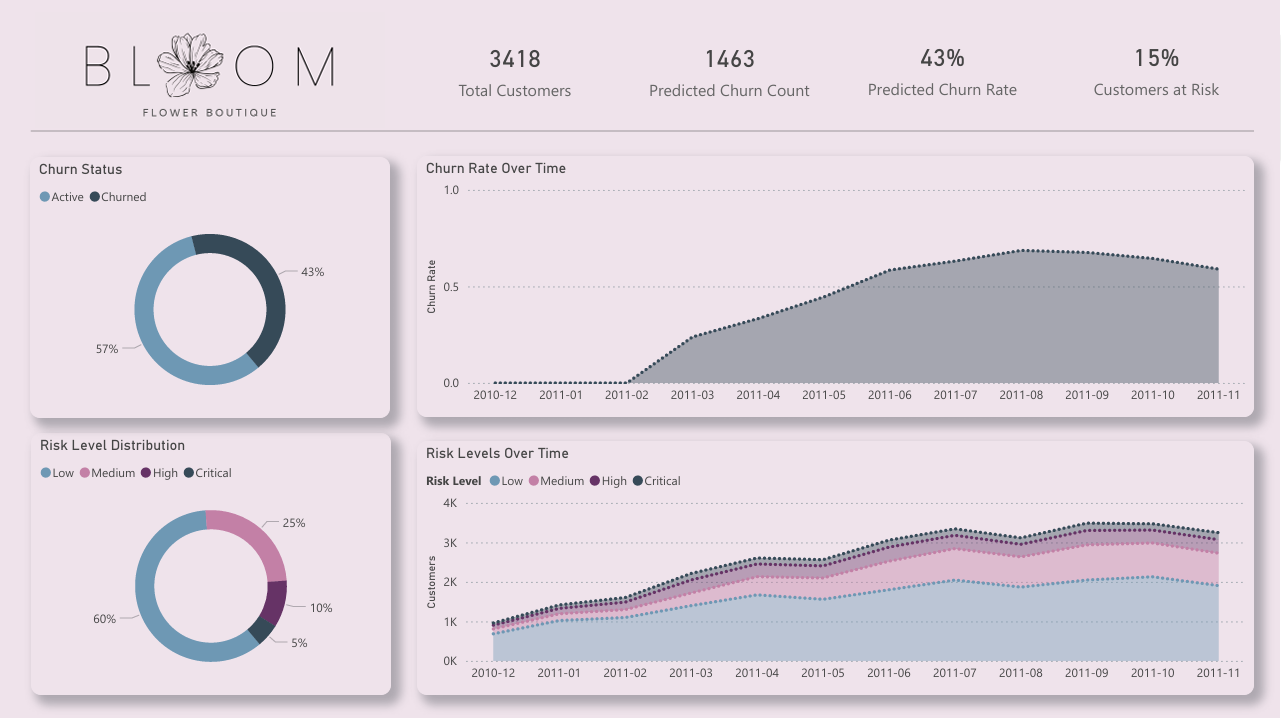

This screenshot's page, from the dashboard's own definition file:
{"tool":"powerbi","page":{"name":"Oveview","canvas":[1280,720],"ordinal":0},"visuals":[{"type":"card","fields":{"Values":["_Measures.Churned Customers"]},"box":[630.2,23.6,196.7,88.1],"z":0},{"type":"card","fields":{"Values":["_Measures.At-Risk Share (%)"]},"box":[1057.5,22.5,196.7,89.1],"z":1000},{"type":"card","fields":{"Values":["_Measures.Churn Rate (%)"]},"box":[843.3,22.5,196.7,89.1],"z":2000},{"type":"card","fields":{"Values":["_Measures.Total Customers"]},"box":[416,23.6,195.7,88.1],"z":3000},{"type":"pieChart","title":"Risk Level Distribution","fields":{"Y":["_Measures.Total Customers"],"Category":["RiskbandSummary.RiskBand"]},"box":[29.7,433.4,360.7,261.3],"z":4000},{"type":"pieChart","title":"Churn Status","fields":{"Y":["_Measures.Total Customers"],"Category":["ChurnScores.ChurnStatus"]},"box":[28.7,156.8,360.7,261.3],"z":5000},{"type":"stackedAreaChart","title":"Risk Levels Over Time","fields":{"Category":["DimDate.YearMonth"],"Series":["RiskbandSummary.RiskBand"],"Y":["Avg(ChurnOverTime.Customers)"]},"box":[416,440.6,837.2,254.1],"z":6000},{"type":"lineChart","title":"Churn Rate Over Time","fields":{"Y":["Avg(ChurnOverTime.ChurnRate)"],"Category":["DimDate.YearMonth"]},"box":[416,155.8,837.2,261.3],"z":7000},{"type":"image","box":[30,7.8,360,125.6],"z":8000},{"type":"shape","box":[29.7,128.1,1223.5,6.1],"z":9000}]}

Visuals, with their boxes in screenshot pixels (x1, y1, x2, y2), scaled from the page's 1280x720 canvas onto the 1281x718 screenshot:
card - _Measures.Churned Customers: (left=631, top=24, right=828, bottom=111)
card - _Measures.At-Risk Share (%): (left=1058, top=22, right=1255, bottom=111)
card - _Measures.Churn Rate (%): (left=844, top=22, right=1041, bottom=111)
card - _Measures.Total Customers: (left=416, top=24, right=612, bottom=111)
"Risk Level Distribution" pieChart: (left=30, top=432, right=391, bottom=693)
"Churn Status" pieChart: (left=29, top=156, right=390, bottom=417)
"Risk Levels Over Time" stackedAreaChart: (left=416, top=439, right=1254, bottom=693)
"Churn Rate Over Time" lineChart: (left=416, top=155, right=1254, bottom=416)
image: (left=30, top=8, right=390, bottom=133)
shape: (left=30, top=128, right=1254, bottom=134)
